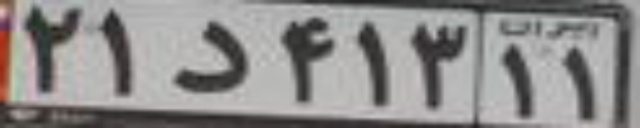1: (93, 7, 133, 95), (351, 21, 388, 105), (495, 44, 531, 117), (561, 46, 596, 119)
2: (23, 5, 81, 92)
3: (407, 22, 470, 107)
4: (278, 18, 337, 103)
dal: (168, 21, 253, 93)
